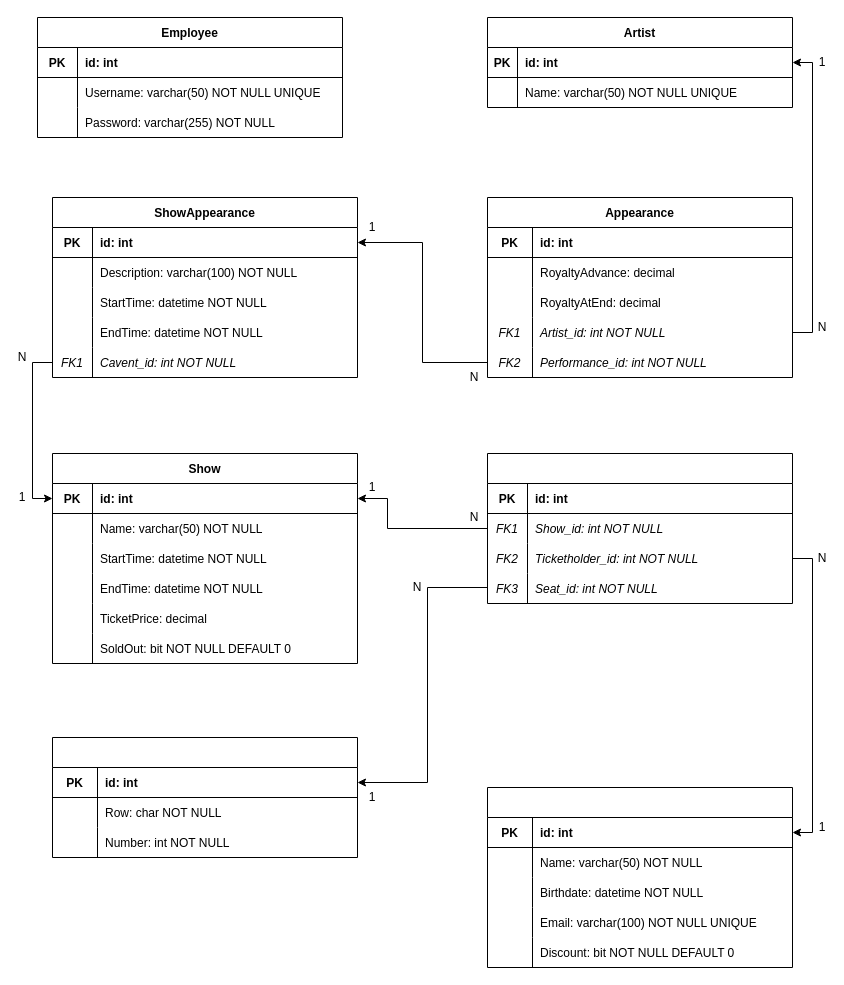
The diagram is 844 pixels wide and 985 high, and some of its shapes have lost their labels. Here are the shapes that lost their labels. From the top down, the box of each, then its label:
(486, 452, 792, 604): Tickets
(52, 736, 358, 858): Seat
(486, 786, 792, 968): Ticketholder
